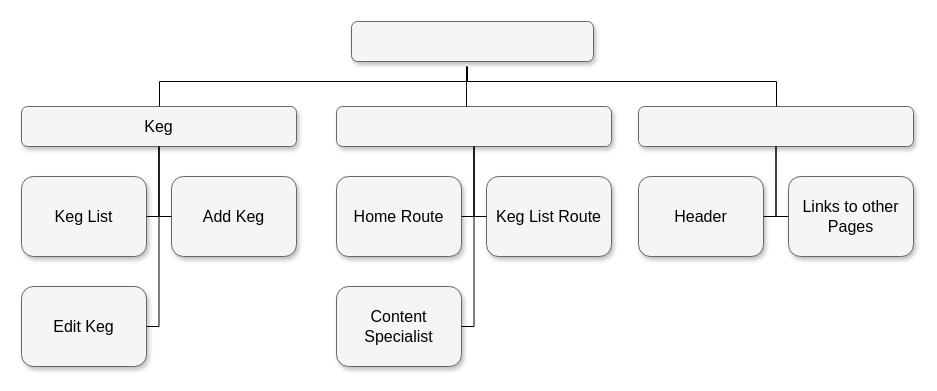
Image size: 937x391. Some labels were removed from this diagram. Each missing label, with the centre of its shape:
"App" goes at (x=473, y=42).
"Main Page" goes at (x=777, y=128).
"NavBar" goes at (x=475, y=128).
